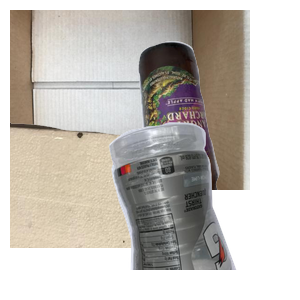cardboard: (10, 10, 250, 190)
glass: (136, 39, 300, 219)
plastic: (106, 120, 300, 300)
trash: (10, 120, 207, 300)
